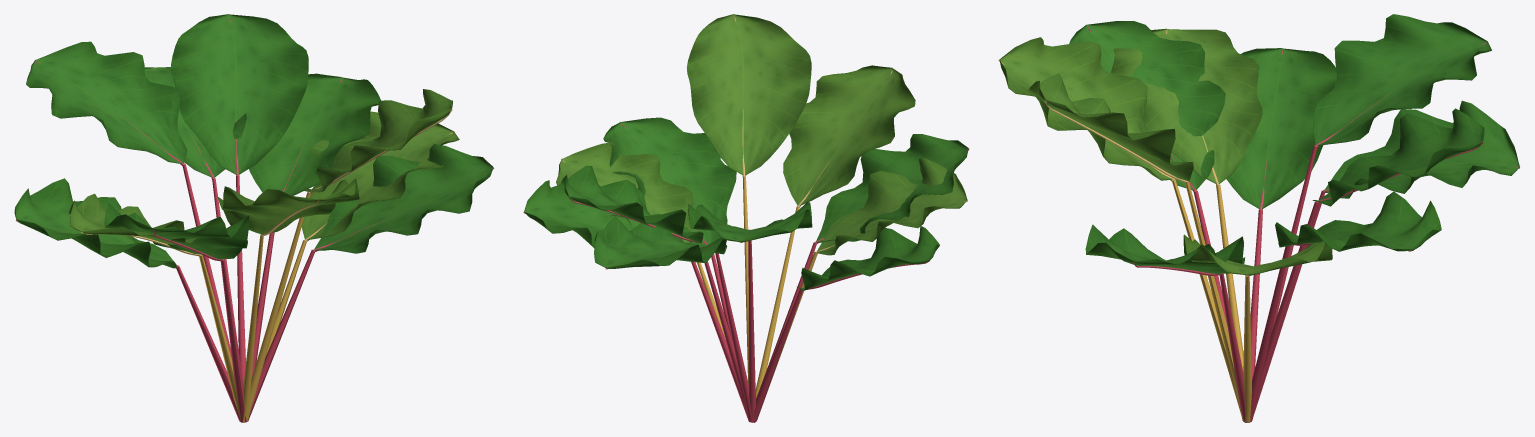
The model's file is chard-default-mobile.glb.
3 renders of one model, left to right at view 1: azimuth 30°, elevation 25°; view 2: azimuth 150°, elevation 25°; view 3: azimuth 270°, elevation 25°, orthographic. The views are drawn at different scales.
Parts seen in each view (by area): view 1: Chard · Default; view 2: Chard · Default; view 3: Chard · Default.
Part boxes in pixels (x1,y1,x2,y2): Chard · Default: (14,14,494,422); Chard · Default: (523,14,969,422); Chard · Default: (998,14,1519,422).
Bounding box in the file's own units: 0.6206 × 0.4947 × 0.6134.
Materials: 6 (2 with a texture image).
